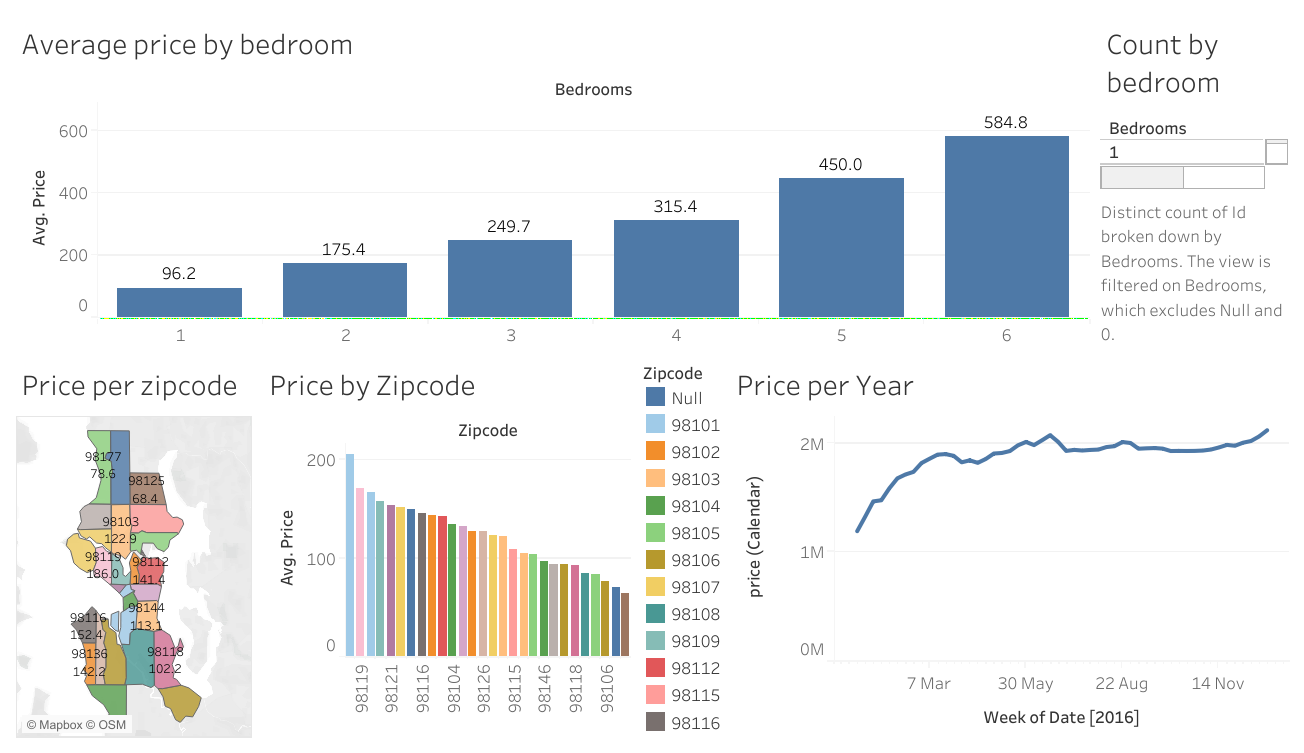

This screenshot's page, from the dashboard's own definition file:
{"tool":"tableau","page":{"name":"Dashboard 1","canvas":[1000,1000],"units":"permille","ordinal":0},"visuals":[{"type":"worksheet","title":"Sheet 5","mark":"Automatic","rows":["price"],"cols":["bedrooms"],"box":[4.8,10,836.6,455.7]},{"type":"worksheet","title":"Sheet 4","mark":"Automatic","rows":["bedrooms"],"box":[841.4,10,153.8,455.7]},{"type":"worksheet","title":"Sheet 2","mark":"Multipolygon","box":[4.8,465.7,190.9,524.3]},{"type":"worksheet","title":"Sheet 1","mark":"Automatic","rows":["price"],"cols":["zipcode"],"box":[195.7,465.7,292,524.3]},{"type":"legend","title":"Sheet 1","param":"[federated.0q28cf80nuge4g173nihb0hwbv4g].[none:zipcode:ok]","box":[487.7,465.7,68.2,524.3]},{"type":"worksheet","title":"Sheet 3","mark":"Automatic","rows":["price (Calendar)"],"cols":["date"],"box":[556,465.7,439.3,524.3]}]}

Visuals, with their boxes on the dashboard's canvas, which has no fixed pixel size, in thousandths of its width and height (x1, y1, x2, y2). These are canvas units, not pixel positions in the 1304x753 screenshot, which may show the page scaled, cropped or inside an application window:
"Sheet 5" worksheet: crop(5, 10, 841, 466)
"Sheet 4" worksheet: crop(841, 10, 995, 466)
"Sheet 2" worksheet (Multipolygon marks): crop(5, 466, 196, 990)
"Sheet 1" worksheet: crop(196, 466, 488, 990)
"Sheet 1" legend: crop(488, 466, 556, 990)
"Sheet 3" worksheet: crop(556, 466, 995, 990)
